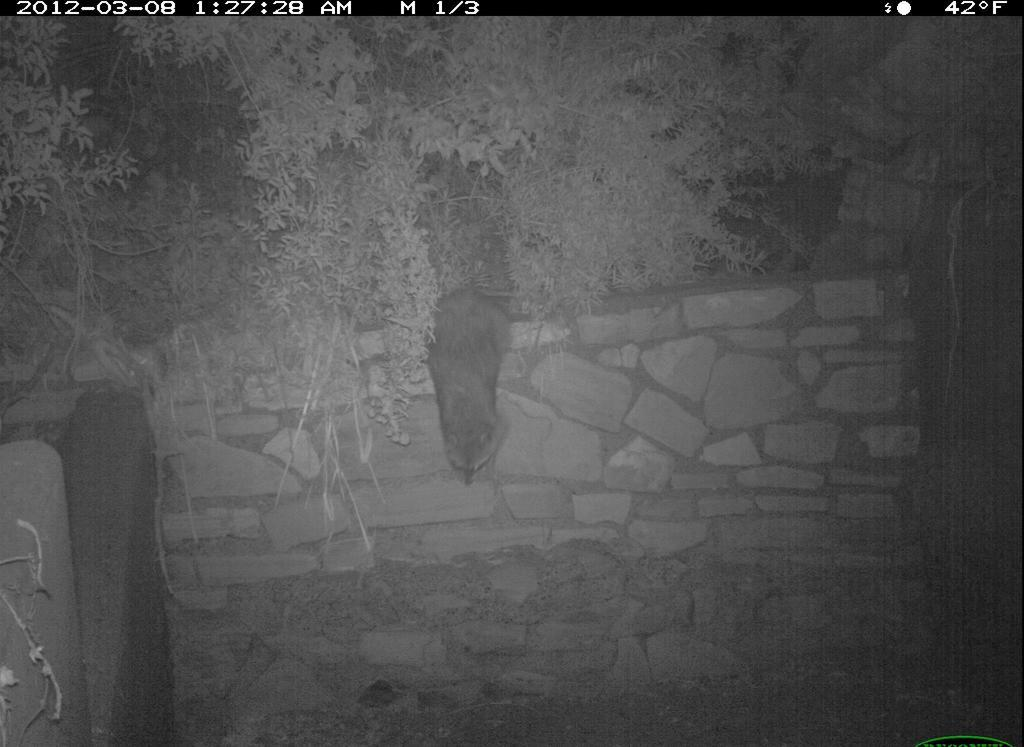raccoon: (418, 271, 532, 498)
